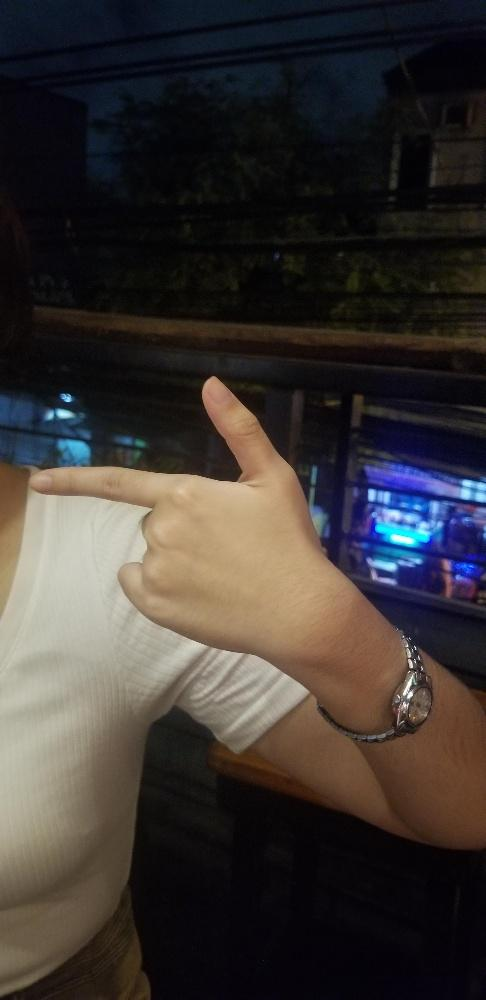g: (27, 372, 313, 653)
